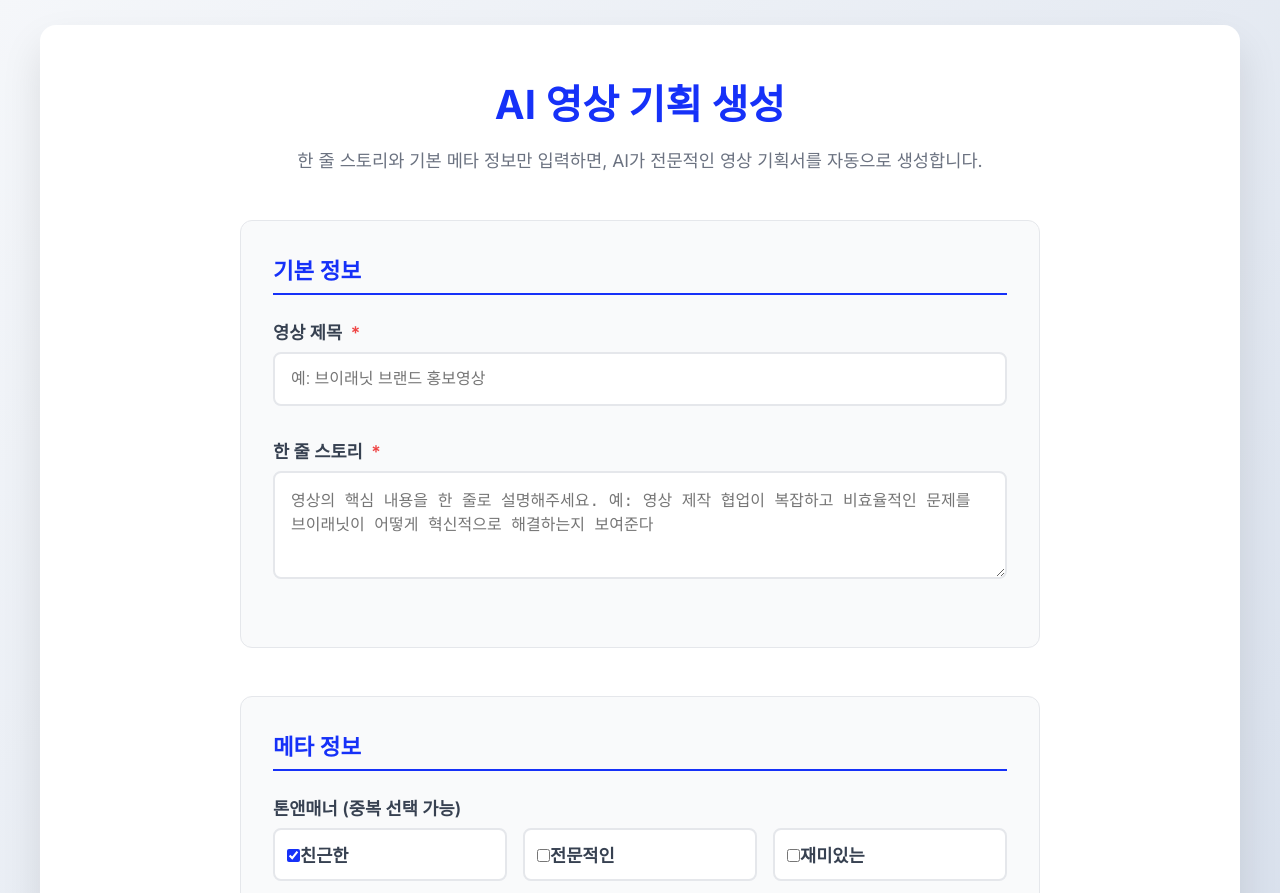
it: AIPlanningPage › AI 기획서 생성 프로세스 › 올바른 정보 입력 후 생성 프로세스가 시작된다
Type "테스트 영상" into the field labelled "영상 제목 *" at (640, 379), box top-left (273, 352), bottom-right (1007, 406)
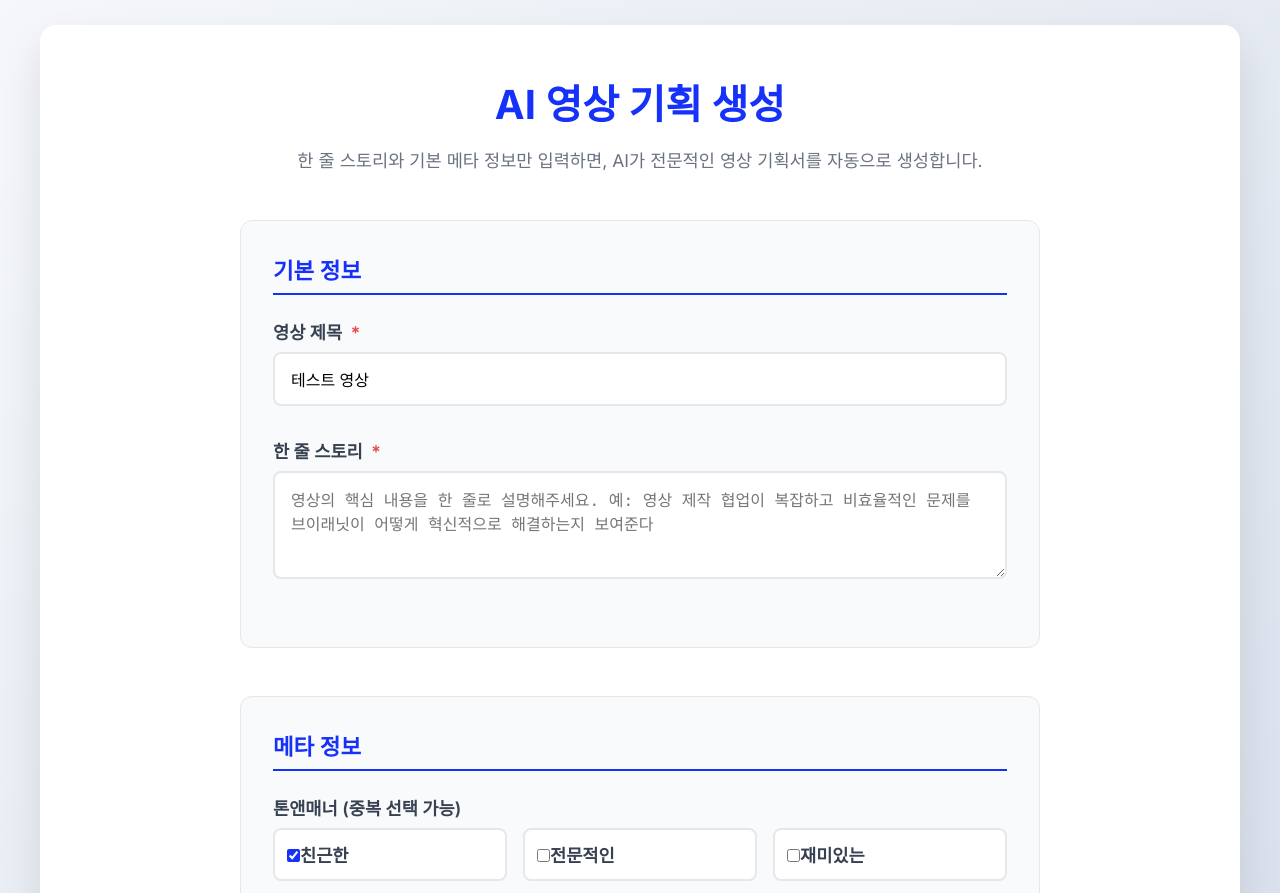
Replace the text in the text box labelled "한 줄 스토리 *" with "테스트 스토리" at (640, 525), box top-left (273, 471), bottom-right (1007, 579)
(page scrolled)
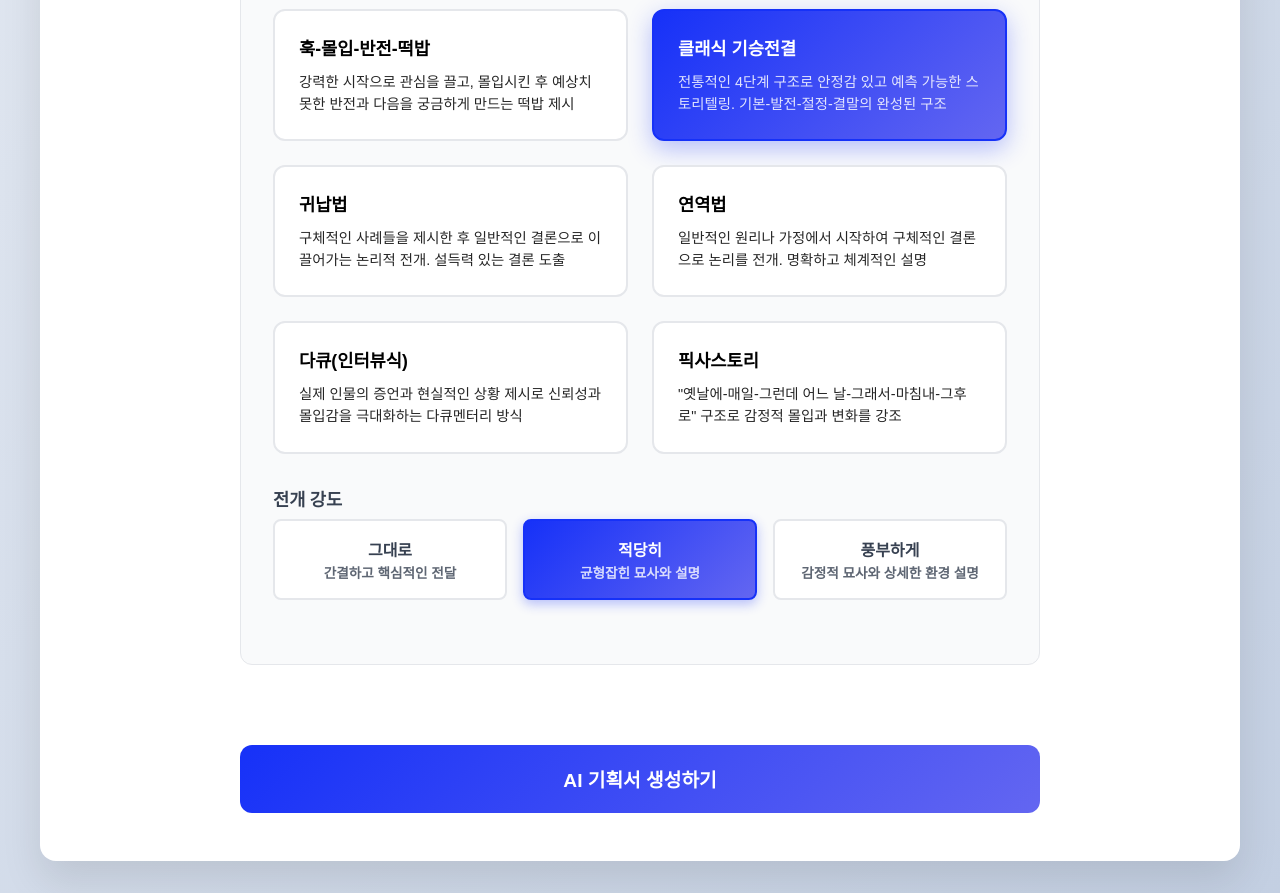
Note: 생성 버튼 클릭
Click the button "AI 기획서 생성하기" at (640, 779), box top-left (240, 745), bottom-right (1040, 813)
(page scrolled)
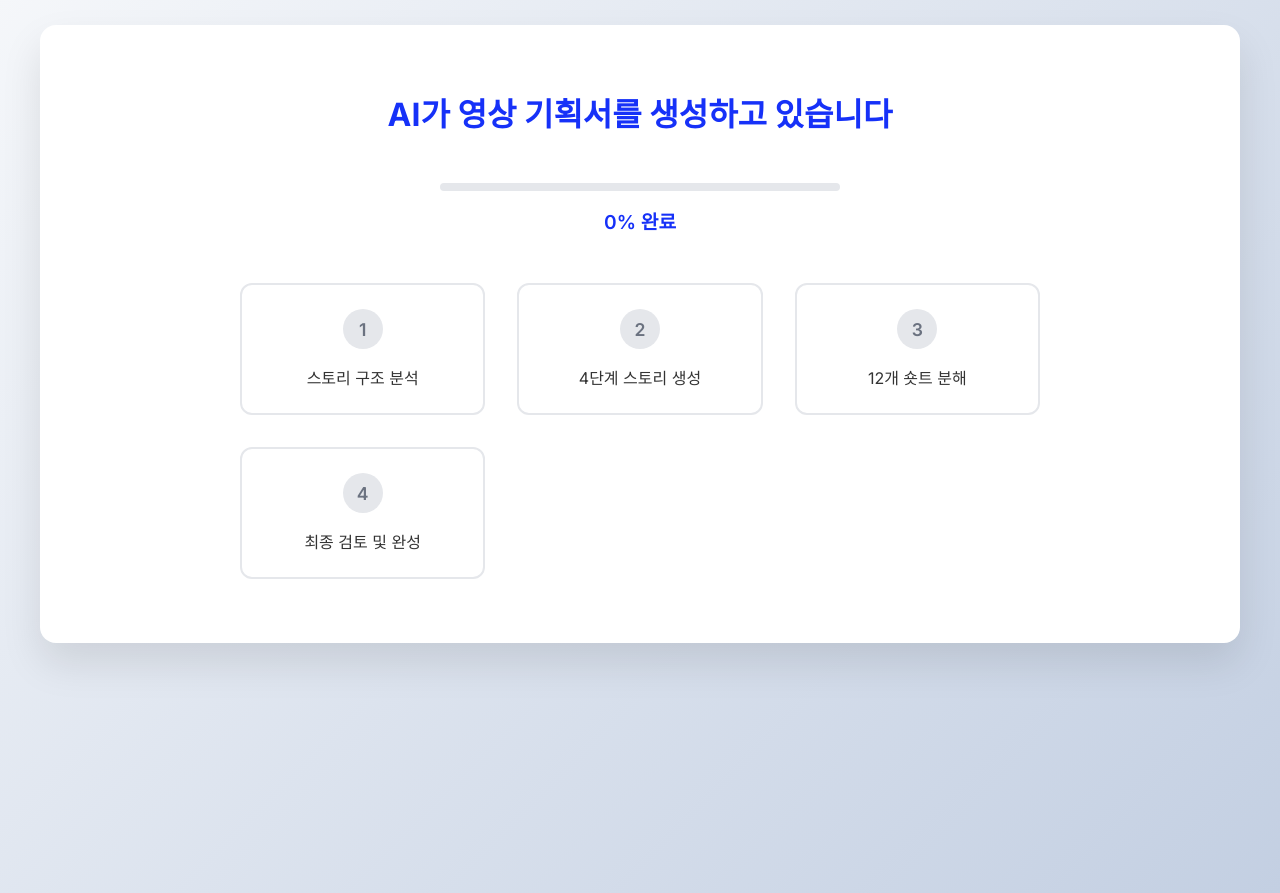
Check: the heading "AI가 영상 기획서를 생성하고 있습니다" is shown, box top-left (388, 95), bottom-right (892, 134)
Check: the text "스토리 구조 분석" is shown, box top-left (307, 365), bottom-right (419, 389)
Check: the text "4단계 스토리 생성" is shown, box top-left (579, 365), bottom-right (701, 389)
